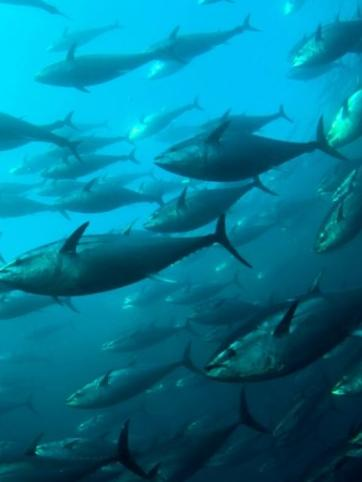Scombridae -Tunas-: (0, 203, 254, 298), (197, 240, 362, 386), (89, 390, 265, 482), (148, 115, 349, 184), (30, 23, 187, 95), (61, 333, 200, 407), (134, 164, 283, 233), (310, 138, 362, 255), (290, 0, 362, 72), (321, 44, 362, 146)
